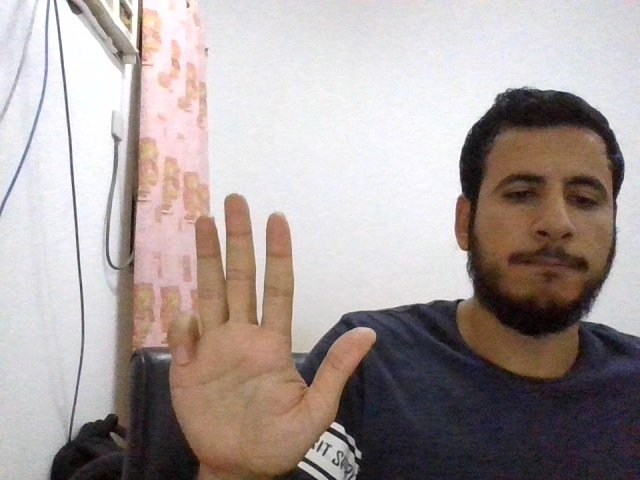Four: (169, 193, 378, 471)
